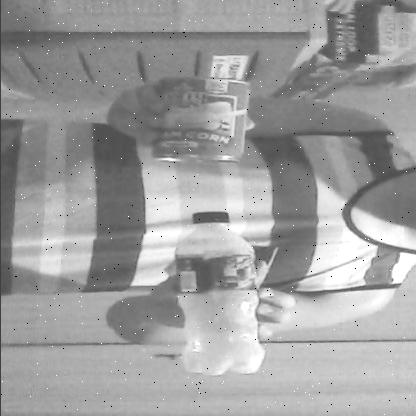Plastic Bottle: (154, 207, 285, 384)
